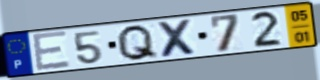2: (249, 10, 285, 50)
5: (71, 29, 106, 65)
7: (209, 13, 243, 54)
E: (30, 29, 73, 73)
Q: (115, 23, 161, 63)
X: (155, 17, 201, 59)
